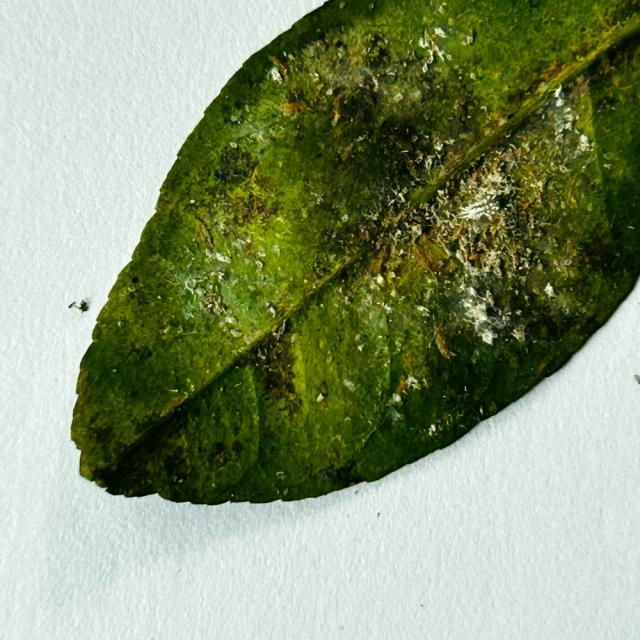Bacterial_Blight: (179, 220, 286, 337), (389, 83, 486, 178), (439, 266, 515, 345), (351, 182, 409, 247), (381, 118, 438, 180), (255, 349, 301, 412), (522, 254, 572, 309), (329, 57, 383, 107), (592, 27, 640, 82), (220, 187, 272, 229), (210, 144, 259, 187), (203, 431, 248, 477), (454, 218, 497, 266), (402, 199, 445, 242), (335, 87, 375, 132), (573, 232, 620, 270), (531, 58, 581, 88), (317, 462, 363, 490), (281, 86, 311, 120), (200, 284, 229, 318), (365, 39, 393, 70), (605, 2, 637, 29), (412, 241, 438, 274), (158, 393, 190, 417), (251, 169, 277, 198), (236, 233, 261, 260), (127, 339, 154, 362), (434, 328, 454, 359), (76, 369, 92, 404), (569, 76, 591, 101), (387, 134, 412, 155), (267, 54, 289, 77), (222, 108, 245, 129), (198, 222, 215, 249), (372, 249, 386, 277), (451, 222, 469, 243), (393, 376, 409, 399), (172, 460, 190, 480), (339, 142, 355, 163), (211, 441, 228, 460), (314, 380, 329, 401), (331, 102, 343, 127), (536, 358, 551, 377), (231, 439, 245, 454), (337, 268, 350, 283), (466, 28, 478, 44), (232, 99, 246, 112), (131, 276, 139, 284)
Lemon: (68, 0, 639, 508)
